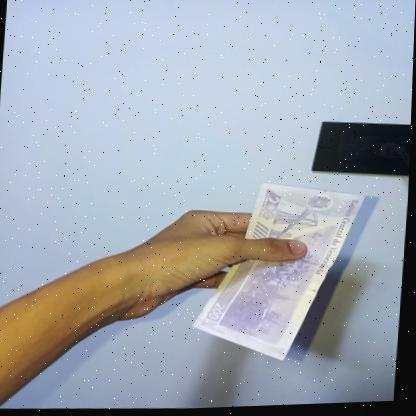two_hundred-back-vef: (192, 179, 368, 369)
